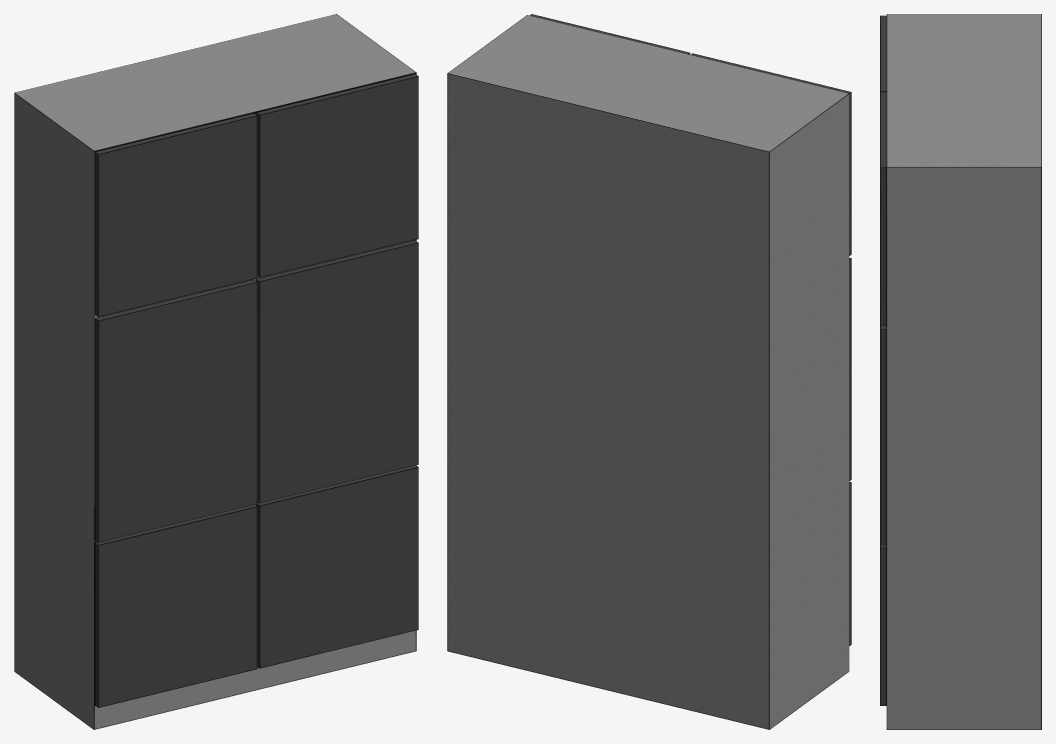
3 views of the same model, side by side, from view 1: azimuth 30°, elevation 25°; view 2: azimuth 150°, elevation 25°; view 3: azimuth 270°, elevation 25° (orthographic). The views are drawn at different scales.
Parts seen in each view (by area): view 1: Skrin_140 v3; view 2: Skrin_140 v3; view 3: Skrin_140 v3.
Part boxes in pixels (x1,y1,x2,y2): Skrin_140 v3: [14, 14, 418, 729]; Skrin_140 v3: [447, 14, 851, 729]; Skrin_140 v3: [880, 14, 1041, 729].
Bounding box in the file's own units: 1.4 × 0.625 × 2.4.
1 material, 1 textured.
